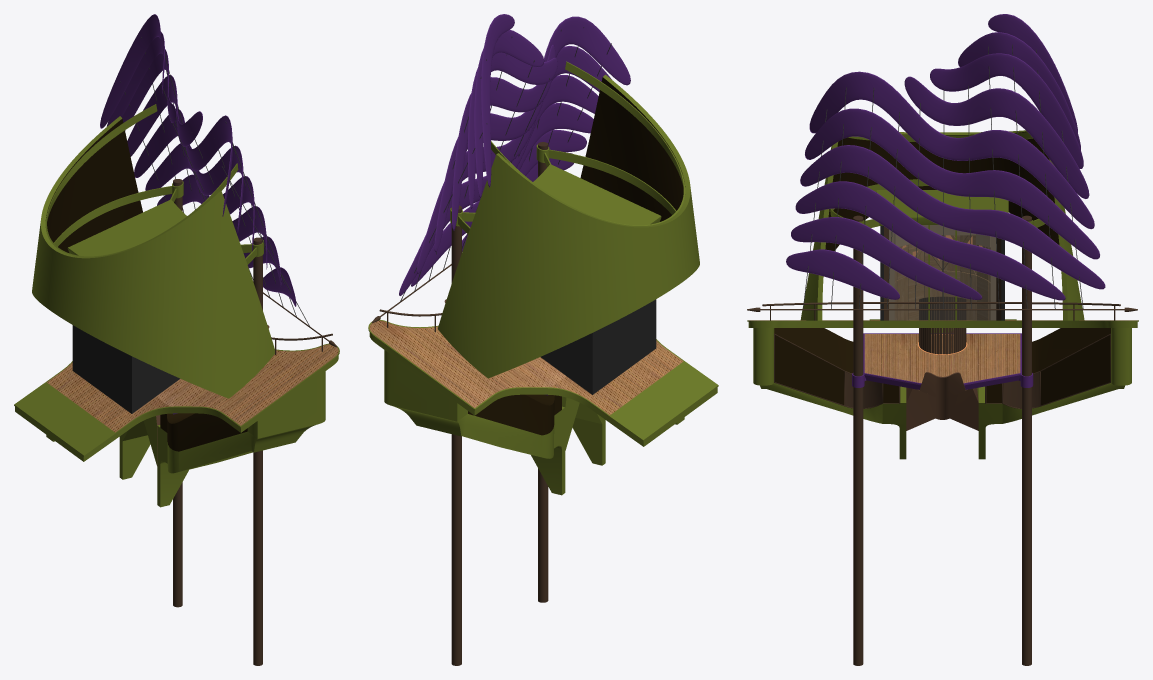
3 views of the same model, side by side, from view 1: azimuth 30°, elevation 25°; view 2: azimuth 150°, elevation 25°; view 3: azimuth 270°, elevation 25° (orthographic). The views are drawn at different scales.
Visible parts, largest first — view 1: Circle004, Shape014, Group269, Rectangle025, Rectangle027, Cylinder018, Line057, Shape016, Shape015, Shape013; view 2: Circle004, Shape014, Group269, Rectangle025, Rectangle027, Cylinder018, Line057, Shape016, Shape015, Shape013; view 3: Shape014, Group269, Rectangle025, Cylinder018, Rectangle026, Circle004, Line057, Rectangle027, Cylinder019, Shape013, Plane006, Group001 (+3 smaller).
Part boxes in pixels (box(x1,y1,x2,y2)): Circle004: box(32, 116, 274, 398); Shape014: box(100, 14, 296, 306); Group269: box(14, 325, 339, 465); Rectangle025: box(119, 371, 325, 507); Rectangle027: box(67, 181, 263, 413); Cylinder018: box(173, 179, 262, 665); Line057: box(15, 356, 338, 461); Shape016: box(45, 104, 238, 256); Shape015: box(54, 186, 256, 264); Shape013: box(120, 37, 309, 326); Circle004: box(437, 74, 699, 378); Shape014: box(399, 14, 630, 295); Group269: box(368, 299, 718, 450); Rectangle025: box(384, 350, 605, 495); Rectangle027: box(450, 144, 661, 394); Cylinder018: box(451, 142, 548, 665); Line057: box(369, 333, 717, 446); Shape016: box(491, 61, 685, 225); Shape015: box(458, 149, 676, 234); Shape013: box(400, 27, 611, 301); Shape014: box(786, 14, 1105, 300); Group269: box(747, 225, 1138, 430); Rectangle025: box(753, 328, 1131, 459); Cylinder018: box(853, 215, 1031, 665); Rectangle026: box(852, 333, 1033, 389); Circle004: box(800, 130, 1084, 320); Line057: box(748, 321, 1137, 327); Rectangle027: box(859, 190, 1033, 320); Cylinder019: box(919, 297, 966, 354); Shape013: box(803, 44, 1083, 309); Plane006: box(895, 235, 990, 319); Group001: box(895, 235, 990, 319).
Size of the model in its own units: 8.54 by 22.32 by 12.49.
14 materials, 3 textured.
